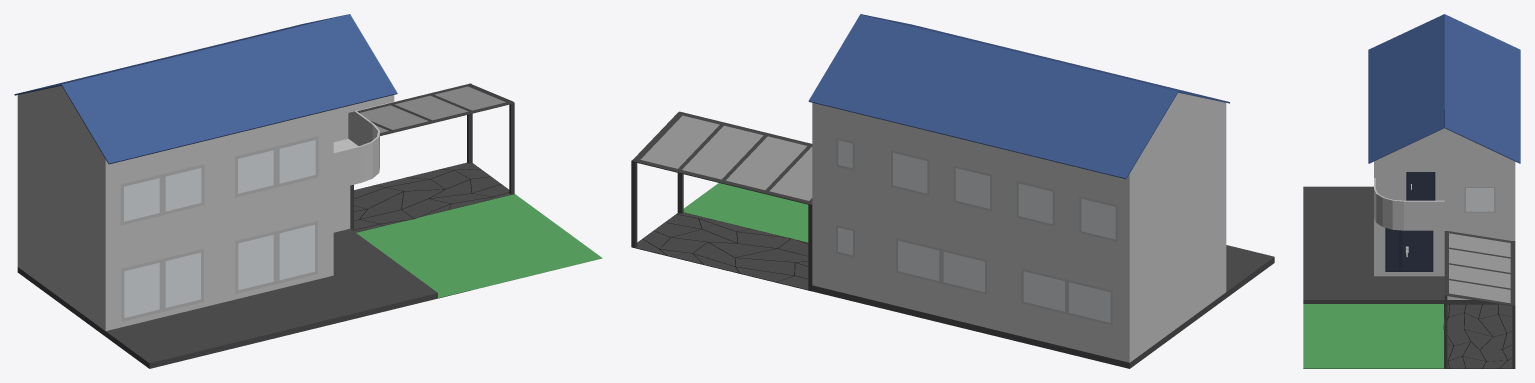
File: house_a1_1.fbx
3 views of the same model, side by side, from view 1: azimuth 30°, elevation 25°; view 2: azimuth 150°, elevation 25°; view 3: azimuth 270°, elevation 25° (orthographic). The views are drawn at different scales.
Visible parts, largest first — view 1: house, garage.floor, garage; view 2: house, garage.floor, garage; view 3: house, garage.floor, garage.
Part boxes in pixels (x1,y1,x2,y2): house: [14, 14, 437, 368]; garage.floor: [354, 162, 602, 298]; garage: [350, 83, 514, 230]; house: [808, 14, 1274, 368]; garage.floor: [631, 183, 811, 291]; garage: [631, 111, 812, 290]; house: [1303, 14, 1520, 303]; garage.floor: [1303, 304, 1515, 368]; garage: [1444, 231, 1515, 368].
Bounding box in the file's own units: 14.89 × 6.92 × 7.7.
